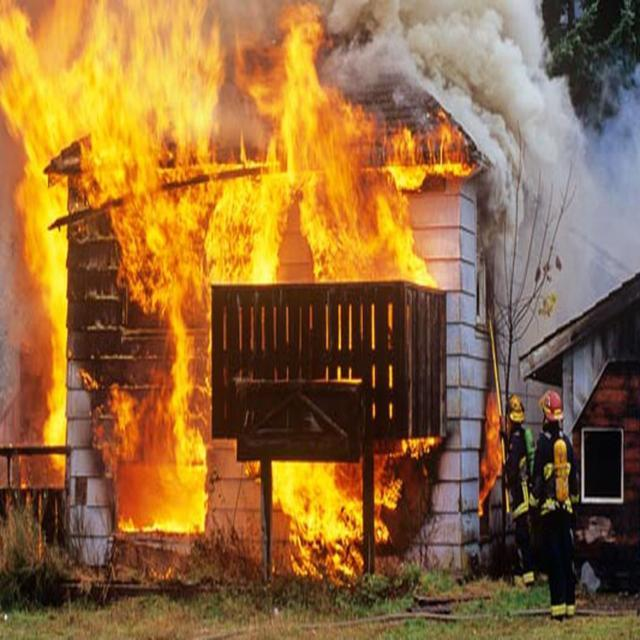Fire: (238, 0, 438, 285), (72, 0, 238, 318), (0, 0, 70, 471), (78, 313, 212, 478), (272, 459, 363, 583), (378, 111, 476, 196), (374, 437, 439, 542), (120, 466, 208, 536), (7, 439, 47, 558), (477, 391, 505, 516), (244, 461, 262, 486), (150, 567, 176, 583)
Smoke: (320, 0, 546, 110), (473, 106, 564, 270)
